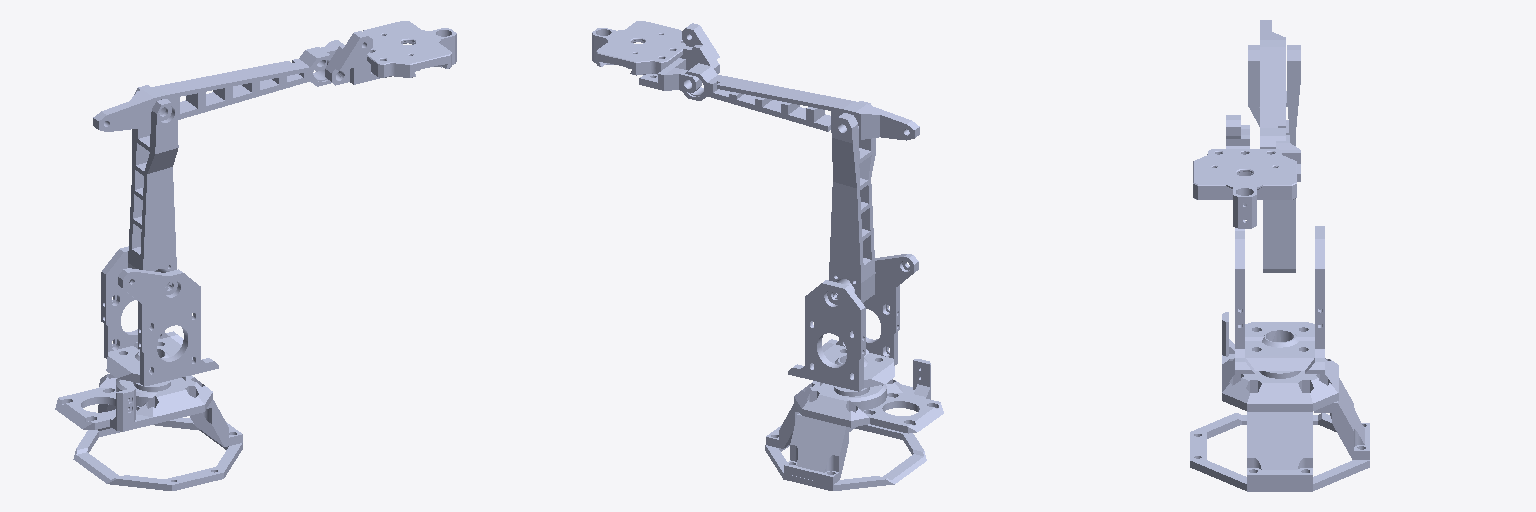
robot.urdf — robotarmhackathon:
<?xml version="1.0" encoding="utf-8"?>
<!-- This URDF was automatically created by SolidWorks to URDF Exporter! Originally created by [author] ([email redacted]) 
     Commit Version: 1.6.0-1-g15f4949  Build Version: 1.6.7594.29634
     For more information, please see http://wiki.ros.org/sw_urdf_exporter -->
<robot
  name="robotarmhackathon">
  <link
    name="base_link">
    <inertial>
      <origin
        xyz="0.10420674769568 0.00214038854680129 0.0489094117884757"
        rpy="0 0 0" />
      <mass
        value="10467613.2406238" />
      <inertia
        ixx="13107519632.3634"
        ixy="-55188521.1955575"
        ixz="-1605823.10235128"
        iyy="23918500476.9016"
        iyz="109816.326054326"
        izz="10845868482.5405" />
    </inertial>
    <visual>
      <origin
        xyz="0 0 0"
        rpy="0 0 0" />
      <geometry>
        <mesh
          filename="package://robotarmhackathon/meshes/base_link.STL" scale="0.001 0.001 0.001" />
      </geometry>
      <material
        name="">
        <color
          rgba="0.792156862745098 0.819607843137255 0.933333333333333 1" />
      </material>
    </visual>
    <collision>
      <origin
        xyz="0 0 0"
        rpy="0 0 0" />
      <geometry>
        <mesh
          filename="package://robotarmhackathon/meshes/base_link.STL" scale="0.001 0.001 0.001" />
      </geometry>
    </collision>
  </link>
  <link
    name="base_leg_1">
    <inertial>
      <origin
        xyz="0.0999315149733181 -0.0857872417456713 -0.0441134507472189"
        rpy="0 0 0" />
      <mass
        value="14024454.6532922" />
      <inertia
        ixx="2322712012.02237"
        ixy="-6153470.93379884"
        ixz="-9980267.40975024"
        iyy="3164204483.44981"
        iyz="-932011049.07348"
        izz="2260407763.54338" />
    </inertial>
    <visual>
      <origin
        xyz="0 0 0"
        rpy="0 0 0" />
      <geometry>
        <mesh
          filename="package://robotarmhackathon/meshes/base_leg_1.STL" scale="0.001 0.001 0.001" />
      </geometry>
      <material
        name="">
        <color
          rgba="0.792156862745098 0.819607843137255 0.933333333333333 1" />
      </material>
    </visual>
    <collision>
      <origin
        xyz="0 0 0"
        rpy="0 0 0" />
      <geometry>
        <mesh
          filename="package://robotarmhackathon/meshes/base_leg_1.STL" scale="0.001 0.001 0.001" />
      </geometry>
    </collision>
  </link>
  <joint
    name="base_leg_1"
    type="fixed">
    <origin
      xyz="0.0000331750659552412 0.000035150719337271 0.0676999969482422"
      rpy="0 0 0" />
    <parent
      link="base_link" />
    <child
      link="base_leg_1" />
    <axis
      xyz="0 0 0" />
  </joint>
  <link
    name="base_leg_2">
    <inertial>
      <origin
        xyz="0.0999315149733181 -0.0857872417456714 -0.0441134507472189"
        rpy="0 0 0" />
      <mass
        value="14024454.6532921" />
      <inertia
        ixx="2322712012.02236"
        ixy="-6153470.93379897"
        ixz="-9980267.40975122"
        iyy="3164204483.4498"
        iyz="-932011049.073476"
        izz="2260407763.54337" />
    </inertial>
    <visual>
      <origin
        xyz="0 0 0"
        rpy="0 0 0" />
      <geometry>
        <mesh
          filename="package://robotarmhackathon/meshes/base_leg_2.STL" scale="0.001 0.001 0.001" />
      </geometry>
      <material
        name="">
        <color
          rgba="0.792156862745098 0.819607843137255 0.933333333333333 1" />
      </material>
    </visual>
    <collision>
      <origin
        xyz="0 0 0"
        rpy="0 0 0" />
      <geometry>
        <mesh
          filename="package://robotarmhackathon/meshes/base_leg_2.STL" scale="0.001 0.001 0.001"/>
      </geometry>
    </collision>
  </link>
  <joint
    name="base_leg_2"
    type="fixed">
    <origin
      xyz="0.220986813987056 -0.149227297525002 -0.0227000007629394"
      rpy="3.14159265358979 0 1.5707963267949" />
    <parent
      link="base_link" />
    <child
      link="base_leg_2" />
    <axis
      xyz="0 0 0" />
  </joint>
  <link
    name="base_leg_3">
    <inertial>
      <origin
        xyz="0.0999315149733181 -0.0857872417456713 -0.0441134507472189"
        rpy="0 0 0" />
      <mass
        value="14024454.6532921" />
      <inertia
        ixx="2322712012.02237"
        ixy="-6153470.93379867"
        ixz="-9980267.40975017"
        iyy="3164204483.44981"
        iyz="-932011049.073479"
        izz="2260407763.54338" />
    </inertial>
    <visual>
      <origin
        xyz="0 0 0"
        rpy="0 0 0" />
      <geometry>
        <mesh
          filename="package://robotarmhackathon/meshes/base_leg_3.STL" scale="0.001 0.001 0.001" />
      </geometry>
      <material
        name="">
        <color
          rgba="0.792156862745098 0.819607843137255 0.933333333333333 1" />
      </material>
    </visual>
    <collision>
      <origin
        xyz="0 0 0"
        rpy="0 0 0" />
      <geometry>
        <mesh
          filename="package://robotarmhackathon/meshes/base_leg_3.STL" scale="0.001 0.001 0.001" />
      </geometry>
    </collision>
  </link>
  <joint
    name="base_leg_3"
    type="fixed">
    <origin
      xyz="0.200053083215943 -0.0982058725159484 0.0676999969482422"
      rpy="0 0 3.14159265358979" />
    <parent
      link="base_link" />
    <child
      link="base_leg_3" />
    <axis
      xyz="0 0 0" />
  </joint>
  <link
    name="axis_1_base">
    <inertial>
      <origin
        xyz="0.0959375121939249 -0.380630664102495 -0.0218762551208198"
        rpy="0 0 0" />
      <mass
        value="40932281.1699308" />
      <inertia
        ixx="14369922660.4427"
        ixy="-2077351721.99651"
        ixz="-399238146.758099"
        iyy="20887549884.6441"
        iyz="234293608.920345"
        izz="33961580084.1404" />
    </inertial>
    <visual>
      <origin
        xyz="0 0 0"
        rpy="0 0 0" />
      <geometry>
        <mesh
          filename="package://robotarmhackathon/meshes/axis_1_base.STL" scale="0.001 0.001 0.001" />
      </geometry>
      <material
        name="">
        <color
          rgba="0.792156862745098 0.819607843137255 0.933333333333333 1" />
      </material>
    </visual>
    <collision>
      <origin
        xyz="0 0 0"
        rpy="0 0 0" />
      <geometry>
        <mesh
          filename="package://robotarmhackathon/meshes/axis_1_base.STL" scale="0.001 0.001 0.001" />
      </geometry>
    </collision>
  </link>
  <joint
    name="axis_1_base"
    type="fixed">
    <origin
      xyz="-0.0036672 0.33004 0.0677"
      rpy="0 0 0" />
    <parent
      link="base_link" />
    <child
      link="axis_1_base" />
    <axis
      xyz="0 0 0" />
  </joint>
  <link
    name="axis_1_child">
    <inertial>
      <origin
        xyz="-0.0057045784518418 -0.000847850206558562 0.0254069730097391"
        rpy="0 0 0" />
      <mass
        value="42138053.5896542" />
      <inertia
        ixx="44674977820.4956"
        ixy="-1139948725.46951"
        ixz="3663987083.6928"
        iyy="36428923022.2857"
        iyz="2198460579.50893"
        izz="27528388109.4216" />
    </inertial>
    <visual>
      <origin
        xyz="0 0 0"
        rpy="0 0 0" />
      <geometry>
        <mesh
          filename="package://robotarmhackathon/meshes/axis_1_child.STL" scale="0.001 0.001 0.001" />
      </geometry>
      <material
        name="">
        <color
          rgba="0.792156862745098 0.819607843137255 0.933333333333333 1" />
      </material>
    </visual>
    <collision>
      <origin
        xyz="0 0 0"
        rpy="0 0 0" />
      <geometry>
        <mesh
          filename="package://robotarmhackathon/meshes/axis_1_child.STL" scale="0.001 0.001 0.001" />
      </geometry>
    </collision>
  </link>
  <joint
    name="axis_1_child"
    type="continuous">
    <origin
      xyz="0.099999 -0.37922 -0.00005"
      rpy="0 0 0" />
    <parent
      link="axis_1_base" />
    <child
      link="axis_1_child" />
    <axis
      xyz="0 0 1" />
  </joint>
  <link
    name="arm1">
    <inertial>
      <origin
        xyz="-0.0374809094503138 0.000801315982716993 0.0345576406838505"
        rpy="0 0 0" />
      <mass
        value="33427957.8252588" />
      <inertia
        ixx="28352419324.3511"
        ixy="701152712.603097"
        ixz="27013648567.803"
        iyy="56973636333.2576"
        iyz="-645733310.894033"
        izz="32876966176.0036" />
    </inertial>
    <visual>
      <origin
        xyz="0 0 0"
        rpy="0 0 0" />
      <geometry>
        <mesh
          filename="package://robotarmhackathon/meshes/arm1.STL" scale="0.001 0.001 0.001" />
      </geometry>
      <material
        name="">
        <color
          rgba="0.792156862745098 0.819607843137255 0.933333333333333 1" />
      </material>
    </visual>
    <collision>
      <origin
        xyz="0 0 0"
        rpy="0 0 0" />
      <geometry>
        <mesh
          filename="package://robotarmhackathon/meshes/arm1.STL" scale="0.001 0.001 0.001" />
      </geometry>
    </collision>
  </link>
  <joint
    name="arm1"
    type="continuous">
    <origin
      xyz="0.000033422 0 0.061071"
      rpy="0 0.82644 3.1416" />
    <parent
      link="axis_1_child" />
    <child
      link="arm1" />
    <axis
      xyz="0 1 0" />
  </joint>
  <link
    name="arm2">
    <inertial>
      <origin
        xyz="0.0663717579477605 -0.0056523979593916 0.0330767881043029"
        rpy="0 0 0" />
      <mass
        value="36928888.8607213" />
      <inertia
        ixx="14362604458.5882"
        ixy="-1227795195.20732"
        ixz="-21476693883.7102"
        iyy="57955982621.5579"
        iyz="23540789.3879213"
        izz="48768974871.0532" />
    </inertial>
    <visual>
      <origin
        xyz="0 0 0"
        rpy="0 0 0" />
      <geometry>
        <mesh
          filename="package://robotarmhackathon/meshes/arm2.STL" scale="0.001 0.001 0.001"/>
      </geometry>
      <material
        name="">
        <color
          rgba="0.792156862745098 0.819607843137255 0.933333333333333 1" />
      </material>
    </visual>
    <collision>
      <origin
        xyz="0 0 0"
        rpy="0 0 0" />
      <geometry>
        <mesh
          filename="package://robotarmhackathon/meshes/arm2.STL" scale="0.001 0.001 0.001" />
      </geometry>
    </collision>
  </link>
  <joint
    name="arm2"
    type="continuous">
    <origin
      xyz="-0.088064 0 0.081116"
      rpy="0 1.2805 3.1416" />
    <parent
      link="arm1" />
    <child
      link="arm2" />
    <axis
      xyz="0 1 0" />
  </joint>
  <link
    name="endeffector1">
    <inertial>
      <origin
        xyz="0 0 0"
        rpy="0 0 0" />
      <mass
        value="12888695.7038069" />
      <inertia
        ixx="2882385634.16868"
        ixy="-232380366.832862"
        ixz="253811824.524402"
        iyy="1817042019.06422"
        iyz="553056013.483461"
        izz="3244707577.17995" />
    </inertial>
    <!-- 0.086484 0.045917 -0.17624 -->
    <visual>
      <origin
        xyz="-0.1151000484 0.04 -0.19624"   
        rpy="0 0 0" />
      <geometry>
        <mesh
          filename="package://robotarmhackathon/meshes/endeffector1.STL" scale="0.001 0.001 0.001" />
      </geometry>
      <material
        name="">
        <color
          rgba="0.792156862745098 0.819607843137255 0.933333333333333 1" />
      </material>
    </visual>
    <collision>
      <origin
        xyz="0 0 0"
        rpy="0 0 0" />
      <geometry>
        <mesh
          filename="package://robotarmhackathon/meshes/endeffector1.STL" scale="0.001 0.001 0.001" />
      </geometry>
    </collision>
  </link>
  <joint name="endeffector1"
    type="continuous">
    <origin
      xyz="0.106105 0 0.05327624"
      rpy="0 -0.45405 0" />
    <parent
      link="arm2" />
    <child
      link="endeffector1" />
    <axis
      xyz="0 1 0" />

  </joint>
  <link
    name="endeffector2">
    <inertial>
      <origin
        xyz="-0.00000395911319455422 0.00323692438356659 0.00485981240420523"
        rpy="0 0 0" />
      <mass
        value="22357667.7030269" />
      <inertia
        ixx="7153844560.42696"
        ixy="3276759.70488864"
        ixz="462212.01745629"
        iyy="5769081326.00476"
        iyz="-277445932.301696"
        izz="12310122424.0219" />
    </inertial>
    <visual>
      <origin
        xyz="-0.1  -0.05 0.19624"
        rpy="0 0 0" />
      <geometry>
        <mesh
          filename="package://robotarmhackathon/meshes/endeffector2.STL" scale="0.001 0.001 0.001" />
      </geometry>
      <material
        name="">
        <color
          rgba="0.792156862745098 0.819607843137255 0.933333333333333 1" />
      </material>
    </visual>
    <collision>
      <origin
        xyz="0 0 0"
        rpy="0 0 0" />
      <geometry>
        <mesh
          filename="package://robotarmhackathon/meshes/endeffector2.STL" scale="0.001 0.001 0.001" />
      </geometry>
    </collision>
  </link>
  <joint
    name="endeffector2"
    type="fixed">
    <origin
      xyz="0.1 0.08 0.205348281860352"
      rpy="3.14159265358979 0 1.5707963267949" />
    <parent
      link="endeffector1" />
    <child
      link="endeffector2" />
    <axis
      xyz="0 0 0" />
  </joint>
</robot>

--- Render facts (derived) ---
The picture shows the robot from 3 angles, left to right: view 1: azimuth 30°, elevation 25°; view 2: azimuth 150°, elevation 25°; view 3: azimuth 270°, elevation 25°; orthographic projection.
Model robotarmhackathon with 10 links and 9 joints (4 continuous, 5 fixed), rooted at base_link, posed every joint at zero.
Visible links, largest first — view 1: axis_1_child, arm1, arm2, axis_1_base, endeffector2, base_link, endeffector1, base_leg_2; view 2: axis_1_child, arm1, arm2, axis_1_base, endeffector2, base_leg_3, endeffector1, base_link, base_leg_2; view 3: axis_1_child, endeffector2, axis_1_base, base_leg_2, arm1, base_link, arm2, base_leg_3, endeffector1.
Boxes of the visible links, box(x1,y1,x2,y2) form: axis_1_child: box(101, 246, 218, 386); arm1: box(128, 85, 178, 289); arm2: box(93, 47, 331, 131); axis_1_base: box(55, 374, 212, 431); endeffector2: box(363, 21, 456, 77); base_link: box(73, 417, 242, 490); endeffector1: box(314, 31, 379, 85); base_leg_2: box(190, 400, 242, 446); axis_1_child: box(788, 254, 918, 391); arm1: box(829, 101, 875, 302); arm2: box(682, 63, 919, 140); axis_1_base: box(794, 359, 943, 433); endeffector2: box(592, 21, 685, 75); base_leg_3: box(784, 413, 855, 484); endeffector1: box(639, 23, 719, 92); base_link: box(765, 424, 926, 490); base_leg_2: box(766, 404, 799, 448); axis_1_child: box(1235, 220, 1324, 373); endeffector2: box(1193, 149, 1296, 228); axis_1_base: box(1222, 312, 1338, 411); base_leg_2: box(1247, 412, 1312, 483); arm1: box(1248, 45, 1300, 272); base_link: box(1190, 413, 1369, 491); arm2: box(1260, 20, 1285, 148); base_leg_3: box(1314, 378, 1369, 459); endeffector1: box(1226, 115, 1300, 181).
Bounding box of the posed robot: 0.2718 × 0.104 × 0.2759 m (x, y, z).
Meshes: 10 distinct files referenced, 9 mesh visuals loaded (9 binary STL); not drawn: 1 (reference not matched to a file when rendering).